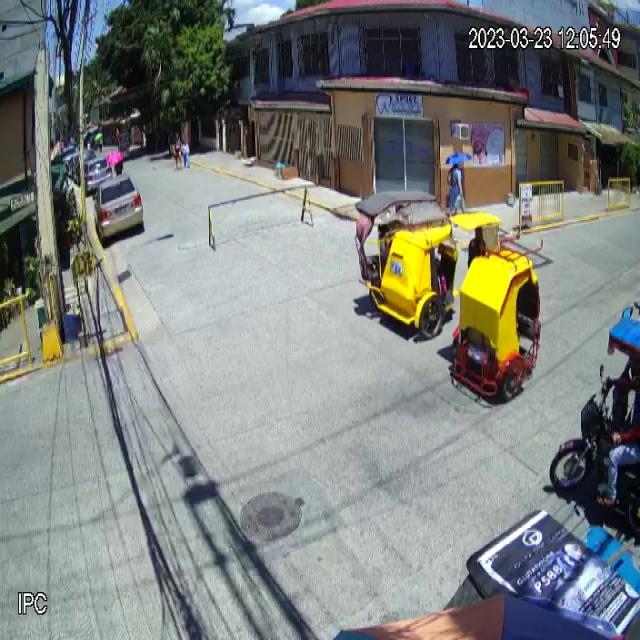Tricycle: (352, 188, 455, 337)
